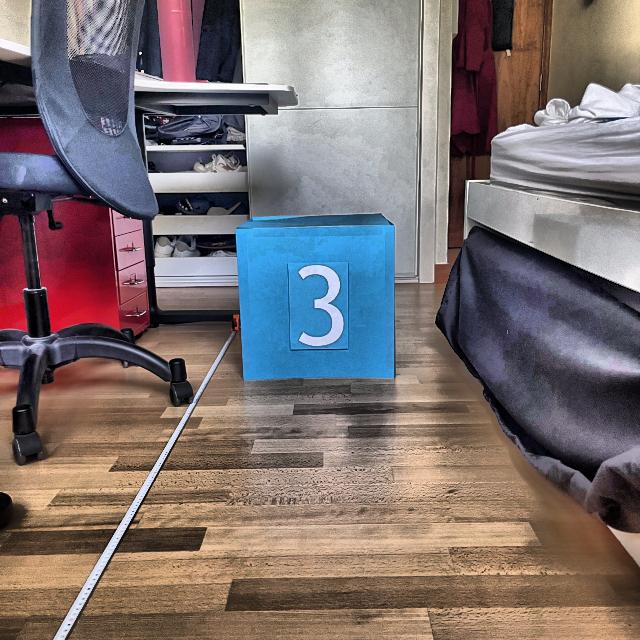blue box: (233, 210, 399, 382)
three: (294, 261, 346, 348)
